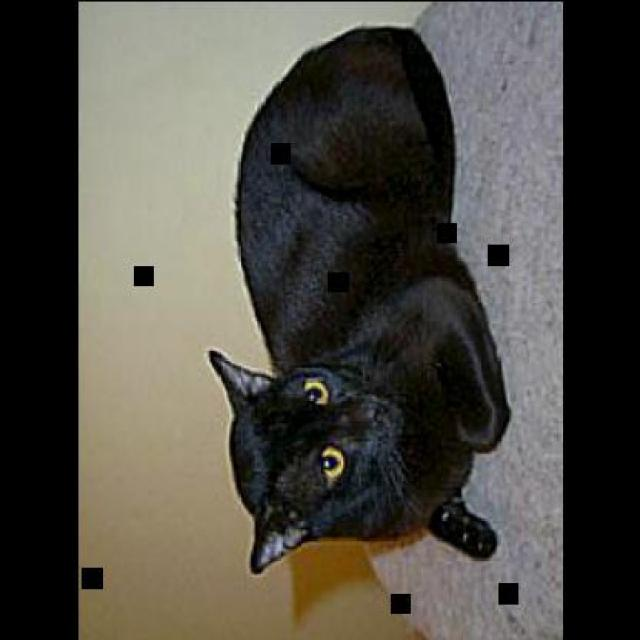unauthorized: (206, 24, 511, 574)
